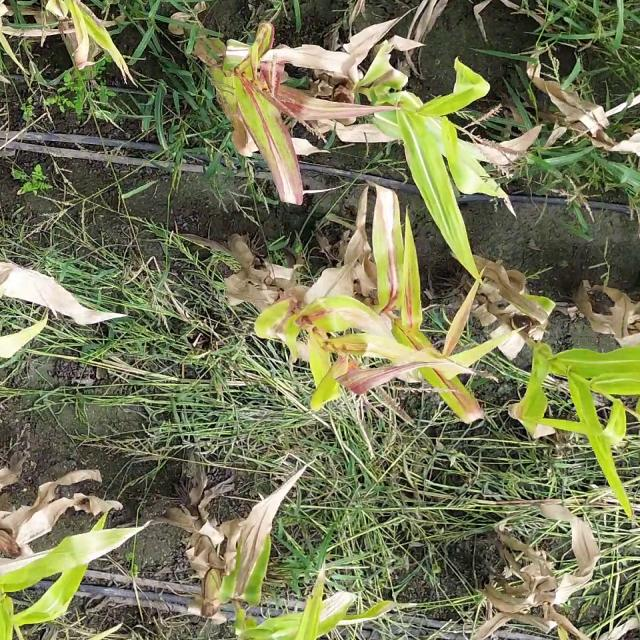northern-leaf-blight: (231, 76, 316, 206), (368, 208, 439, 340)
